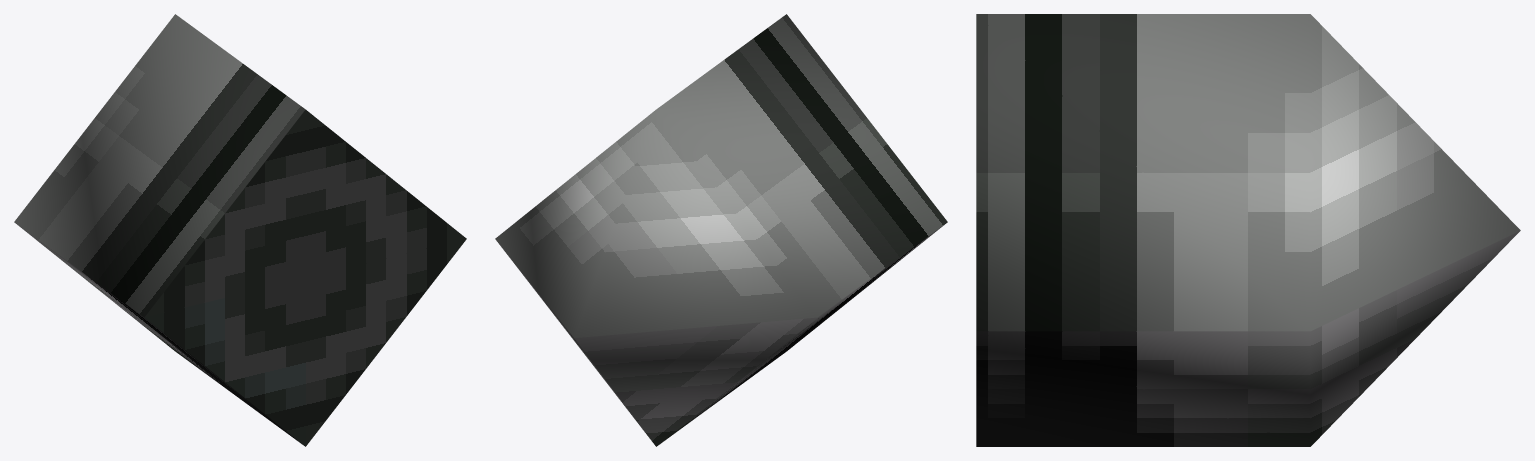
Rendered from grenade_203.glb.
3 renders of one model, left to right at view 1: azimuth 30°, elevation 25°; view 2: azimuth 150°, elevation 25°; view 3: azimuth 270°, elevation 25°, orthographic. The views are drawn at different scales.
Parts seen in each view (by area): view 1: GRENADE_203; view 2: GRENADE_203; view 3: GRENADE_203.
Part boxes in pixels (x1,y1,x2,y2): GRENADE_203: (14,14,466,446); GRENADE_203: (495,14,947,446); GRENADE_203: (976,14,1520,446).
Size of the model in its own units: 0.05 by 0.05 by 0.057.
Materials: 1 (1 with a texture image).
